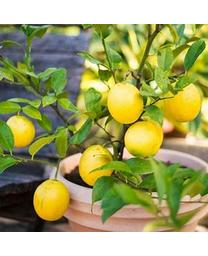lemon: (106, 81, 143, 124), (163, 83, 202, 123), (126, 121, 161, 160), (80, 145, 114, 184), (36, 181, 68, 222), (7, 116, 35, 146)
